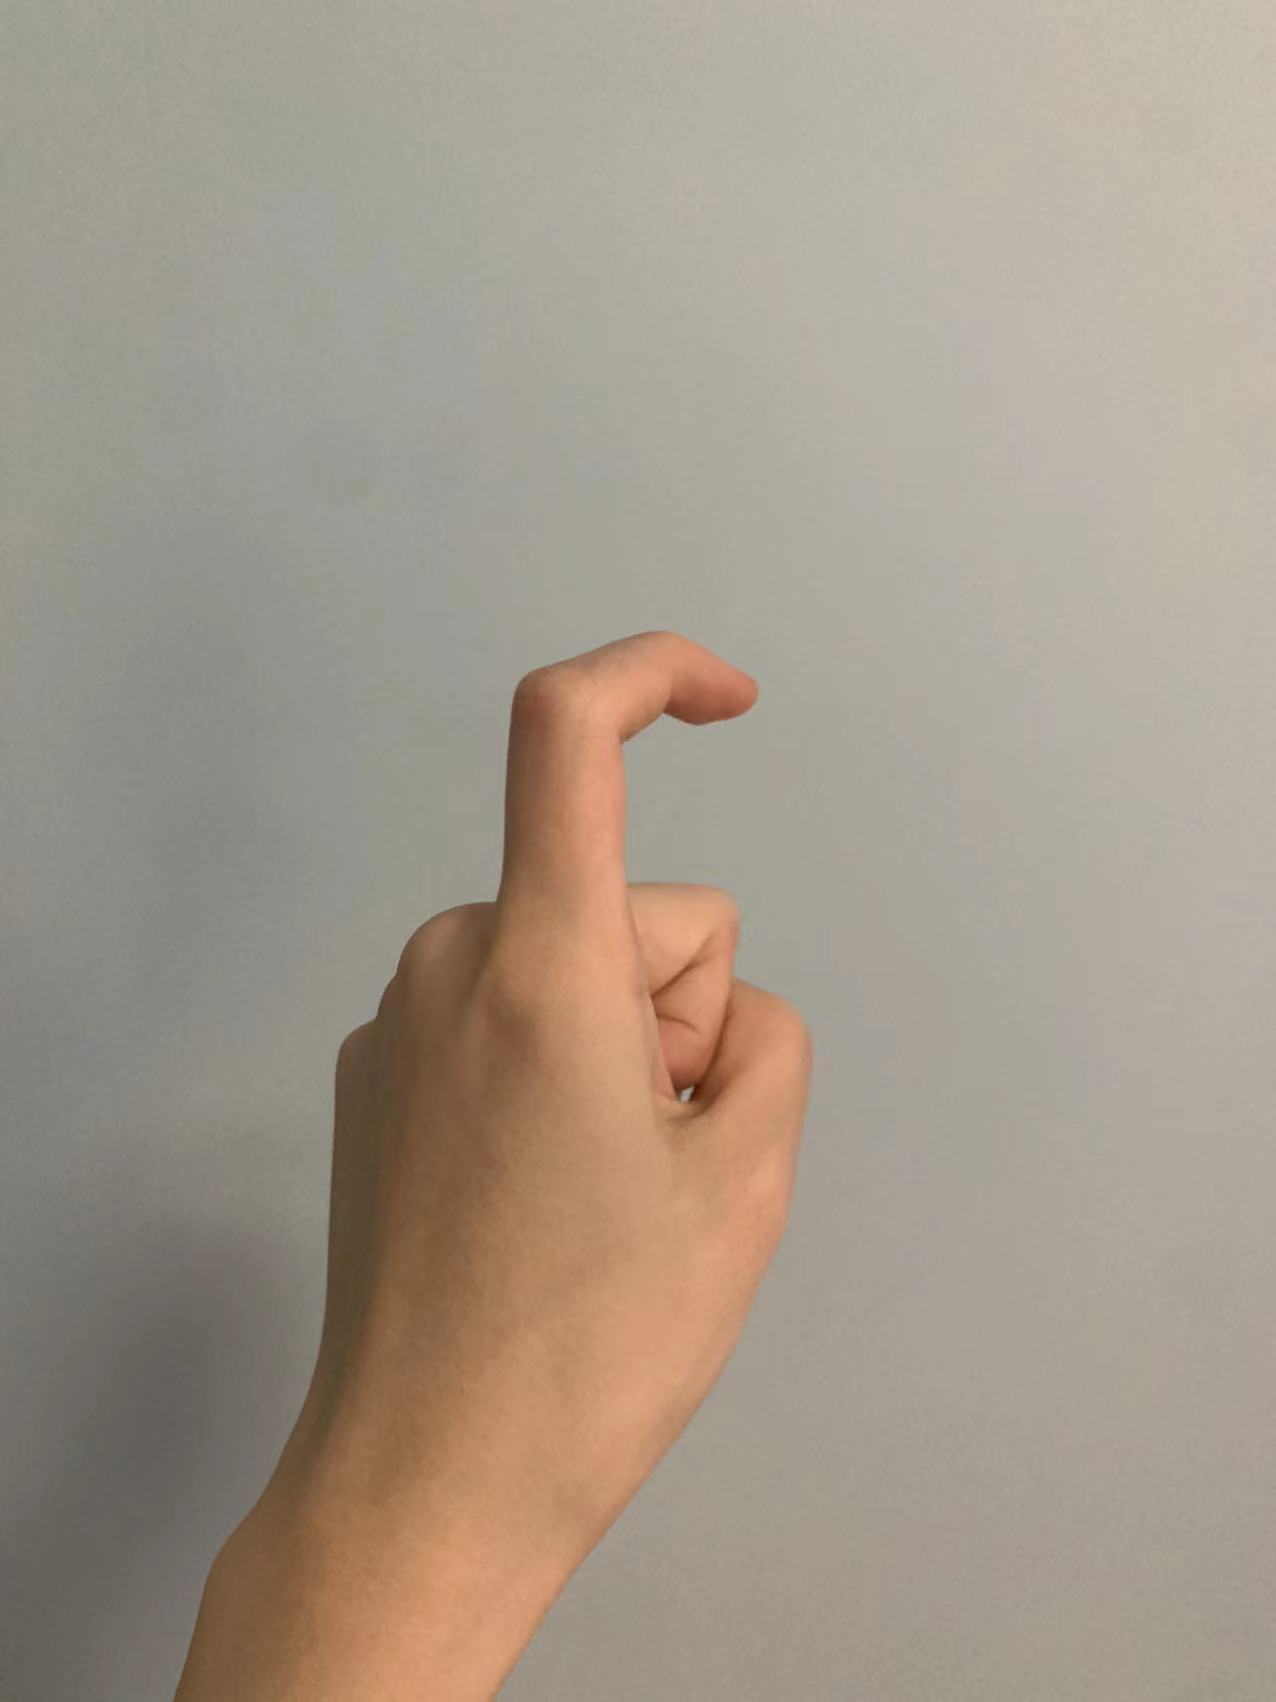anticlockwise: (290, 629, 887, 1409)
